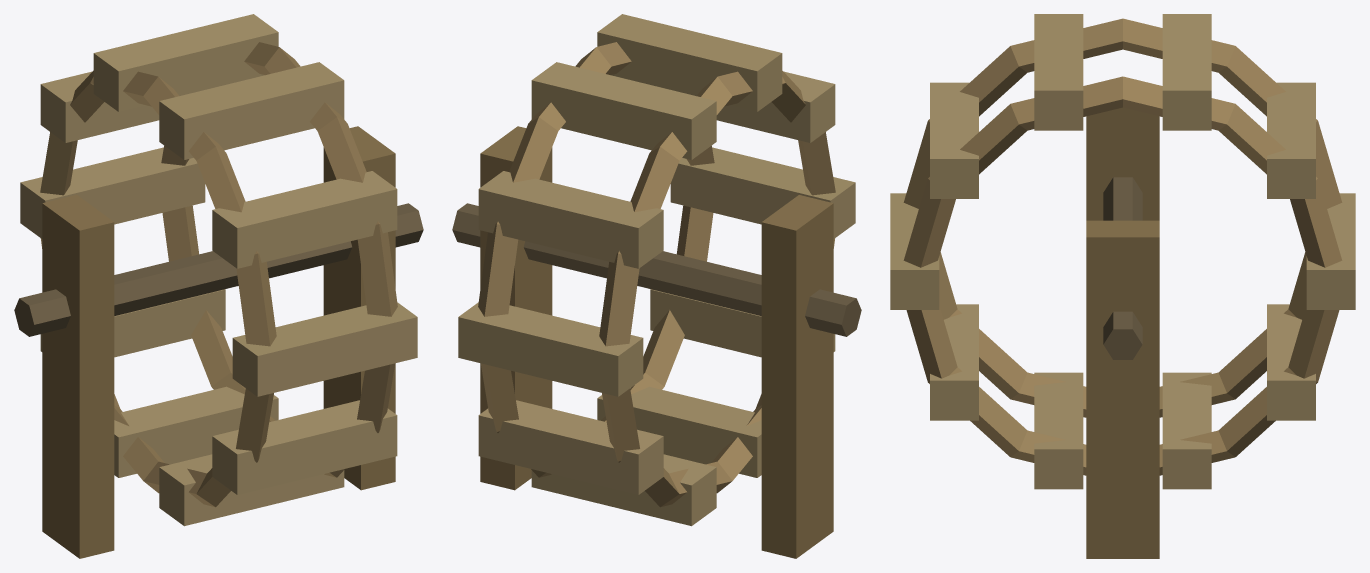
Rendered from map-exclusive-v3__farm_06.glb.
The picture shows the model from 3 angles, left to right: view 1: azimuth 30°, elevation 25°; view 2: azimuth 150°, elevation 25°; view 3: azimuth 270°, elevation 25°; orthographic projection. The views are drawn at different scales.
Parts seen in each view (by area): view 1: farm_06; view 2: farm_06; view 3: farm_06.
Part boxes in pixels (x1,y1,x2,y2): farm_06: [14, 14, 423, 558]; farm_06: [452, 14, 861, 558]; farm_06: [890, 14, 1355, 558].
Size of the model in its own units: 1.8 by 1.97 by 1.9.
